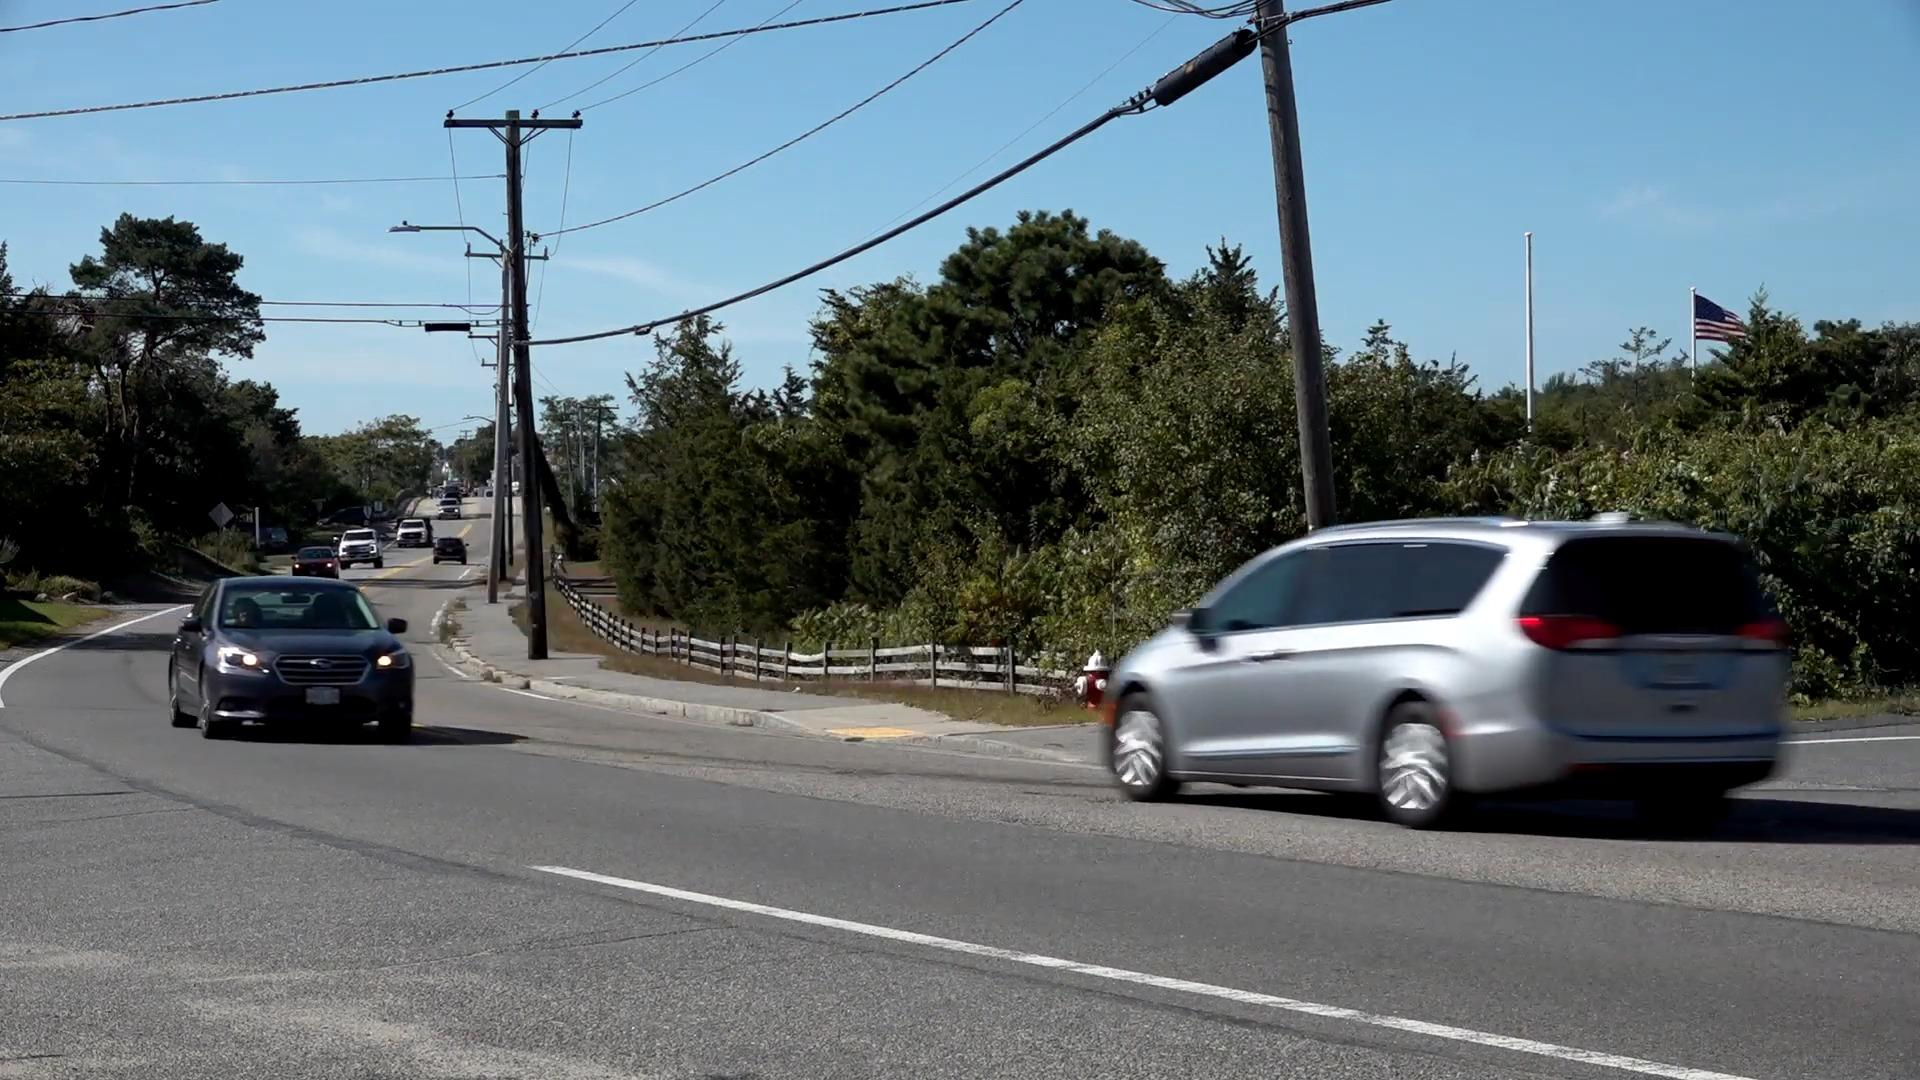minivan: (1100, 508, 1791, 827)
sedans: (171, 570, 414, 748)
